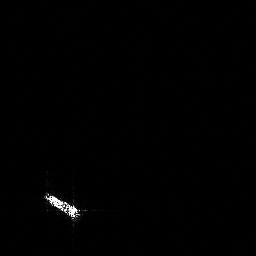ship: (45, 193, 78, 218)
